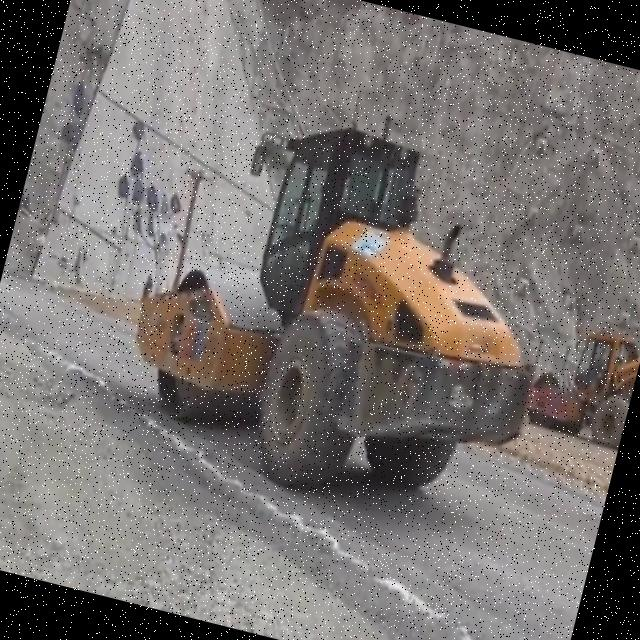Excavator: (521, 321, 640, 448)
Roller: (111, 90, 574, 531)
